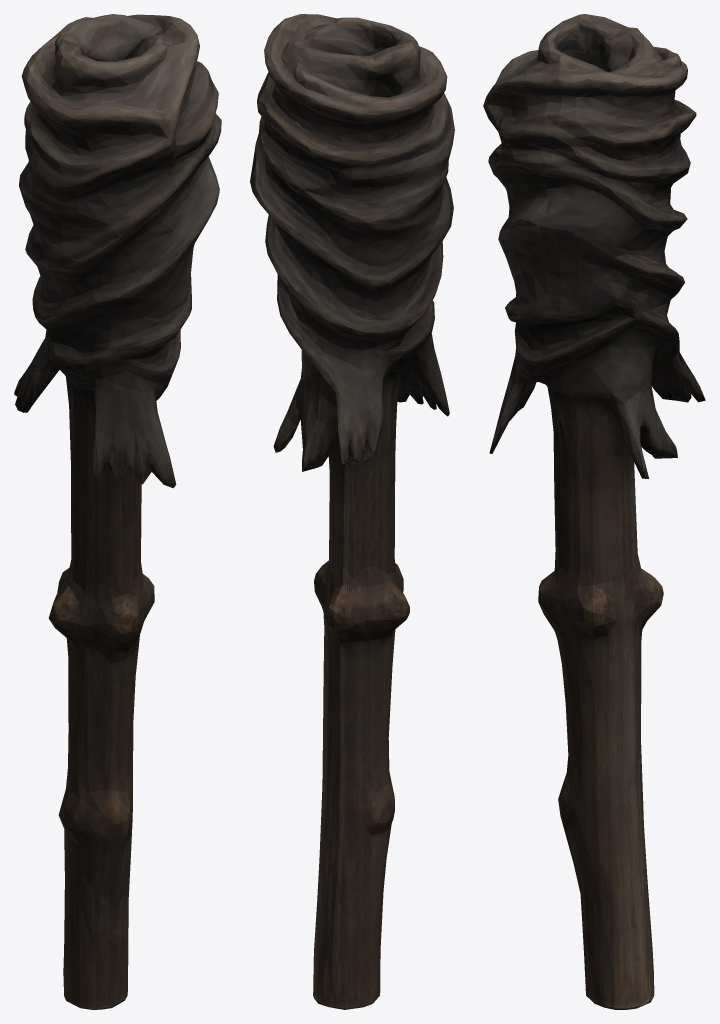
The model's file is torch3d.glb.
3 renders of one model, left to right at view 1: azimuth 30°, elevation 25°; view 2: azimuth 150°, elevation 25°; view 3: azimuth 270°, elevation 25°, orthographic.
Visible parts, largest first — view 1: world; view 2: world; view 3: world.
Boxes of the visible parts, x1,y1,x2,y2 form: world: [14, 14, 221, 1009]; world: [250, 14, 454, 1009]; world: [483, 14, 705, 1009].
Size of the model in its own units: 0.1814 by 1 by 0.2104.
1 material, 1 textured.
